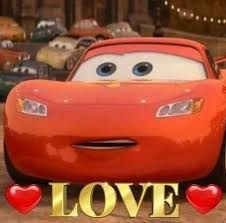mcqueen: (1, 35, 225, 185)
